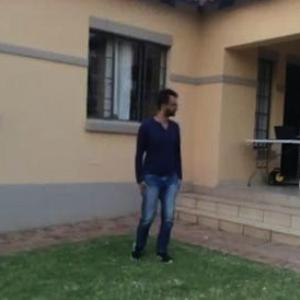follow: (132, 80, 190, 274)
